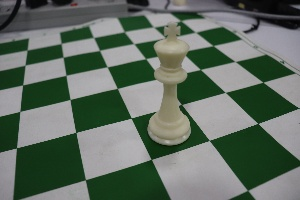white_king: (144, 10, 195, 152)
